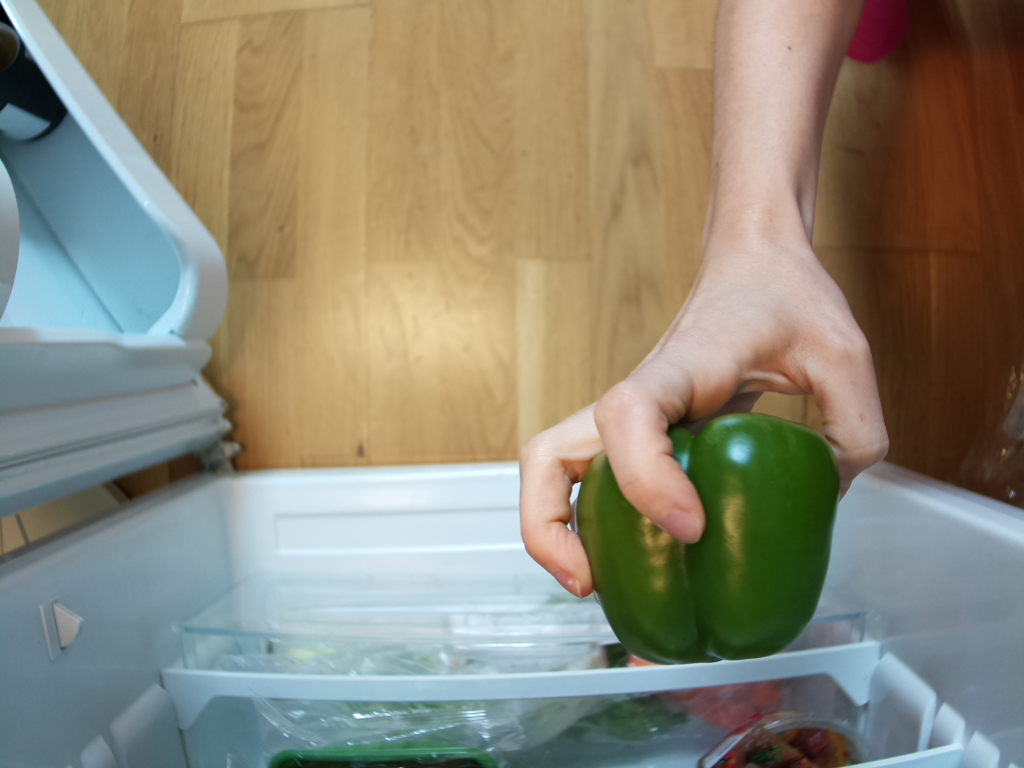pepper: (581, 410, 839, 664)
